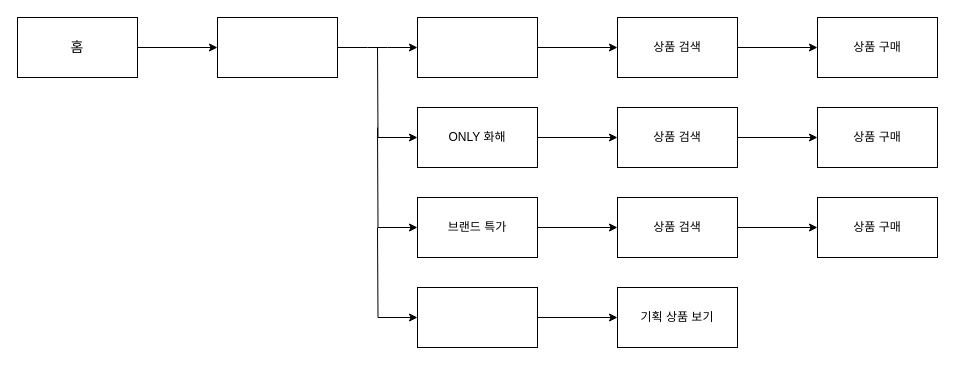
Some shapes in this 955 by 365 pixel diagram are drawn without their labels. Here are the shapes that lost their labels. From the top down, the centre of each, then its label:
At point (277, 47): "화해 쇼핑".
At point (477, 47): "쇼핑 홈".
At point (477, 317): "기획전".
